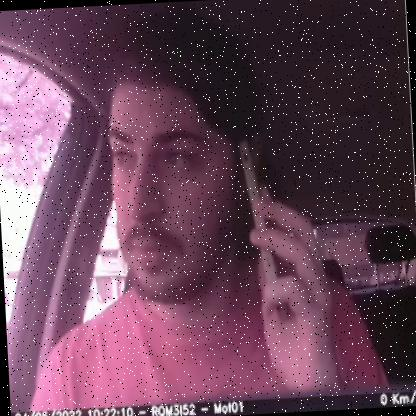phone: (236, 127, 288, 345)
